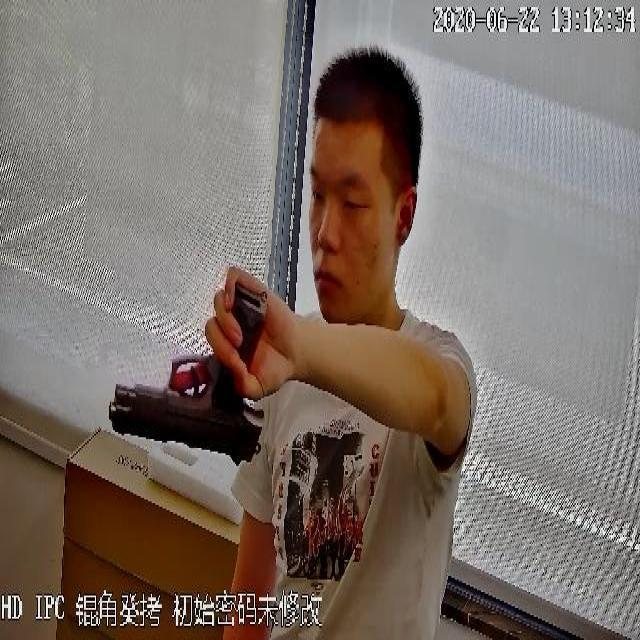pistol: (107, 286, 271, 467)
